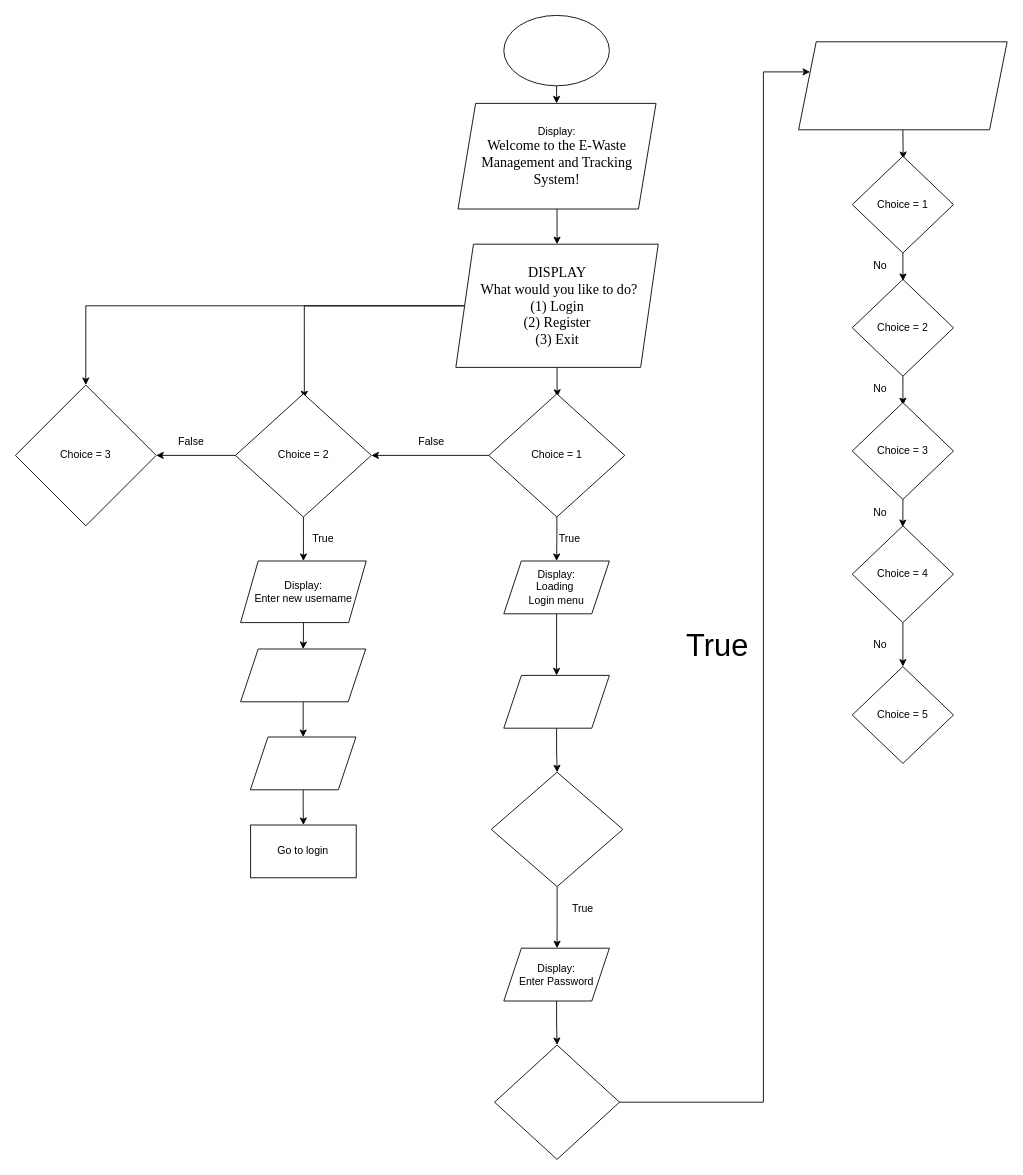
Image size: 1023x1175. Some labels were removed from this diagram. Each missing label, with the centre of its shape:
"Display menu: 1. Add Items 2. Show Items 3. Update Items 4. Delete Items 5. Exit" belongs at [902,85].
"Display: Account creation success" belongs at [302,763].
"Display: Enter new password" belongs at [303,675].
"Display: Enter username" belongs at [556,701].
"Start" belongs at [556,50].
"user_name = user_name_db" belongs at [556,829].
"user_password = user_pass_db" belongs at [557,1101].
